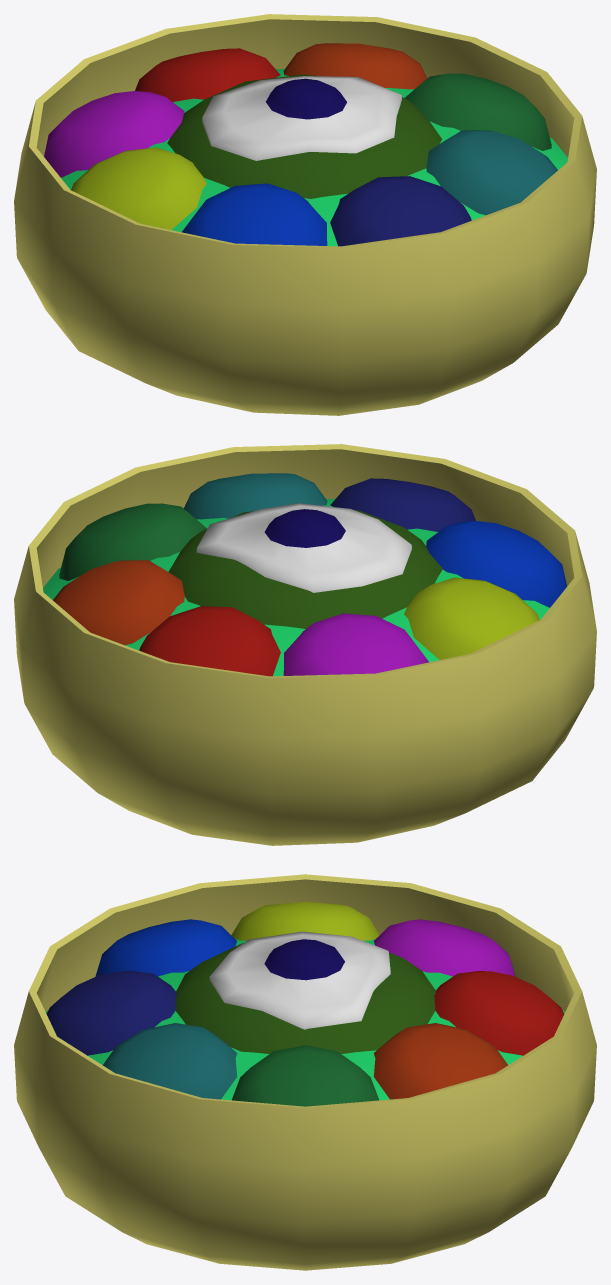
File: Bibimkkaebi.fbx
3 views of the same model, one above another, from view 1: azimuth 30°, elevation 25°; view 2: azimuth 150°, elevation 25°; view 3: azimuth 270°, elevation 25° (orthographic).
Parts seen in each view (by area): view 1: Bibimkkaebi; view 2: Bibimkkaebi; view 3: Bibimkkaebi.
Part boxes in pixels (bbox=[...]): Bibimkkaebi: bbox=[14, 14, 596, 415]; Bibimkkaebi: bbox=[14, 444, 596, 845]; Bibimkkaebi: bbox=[14, 874, 596, 1270].
Bounding box in the file's own units: 49.89 × 24.25 × 49.89.
